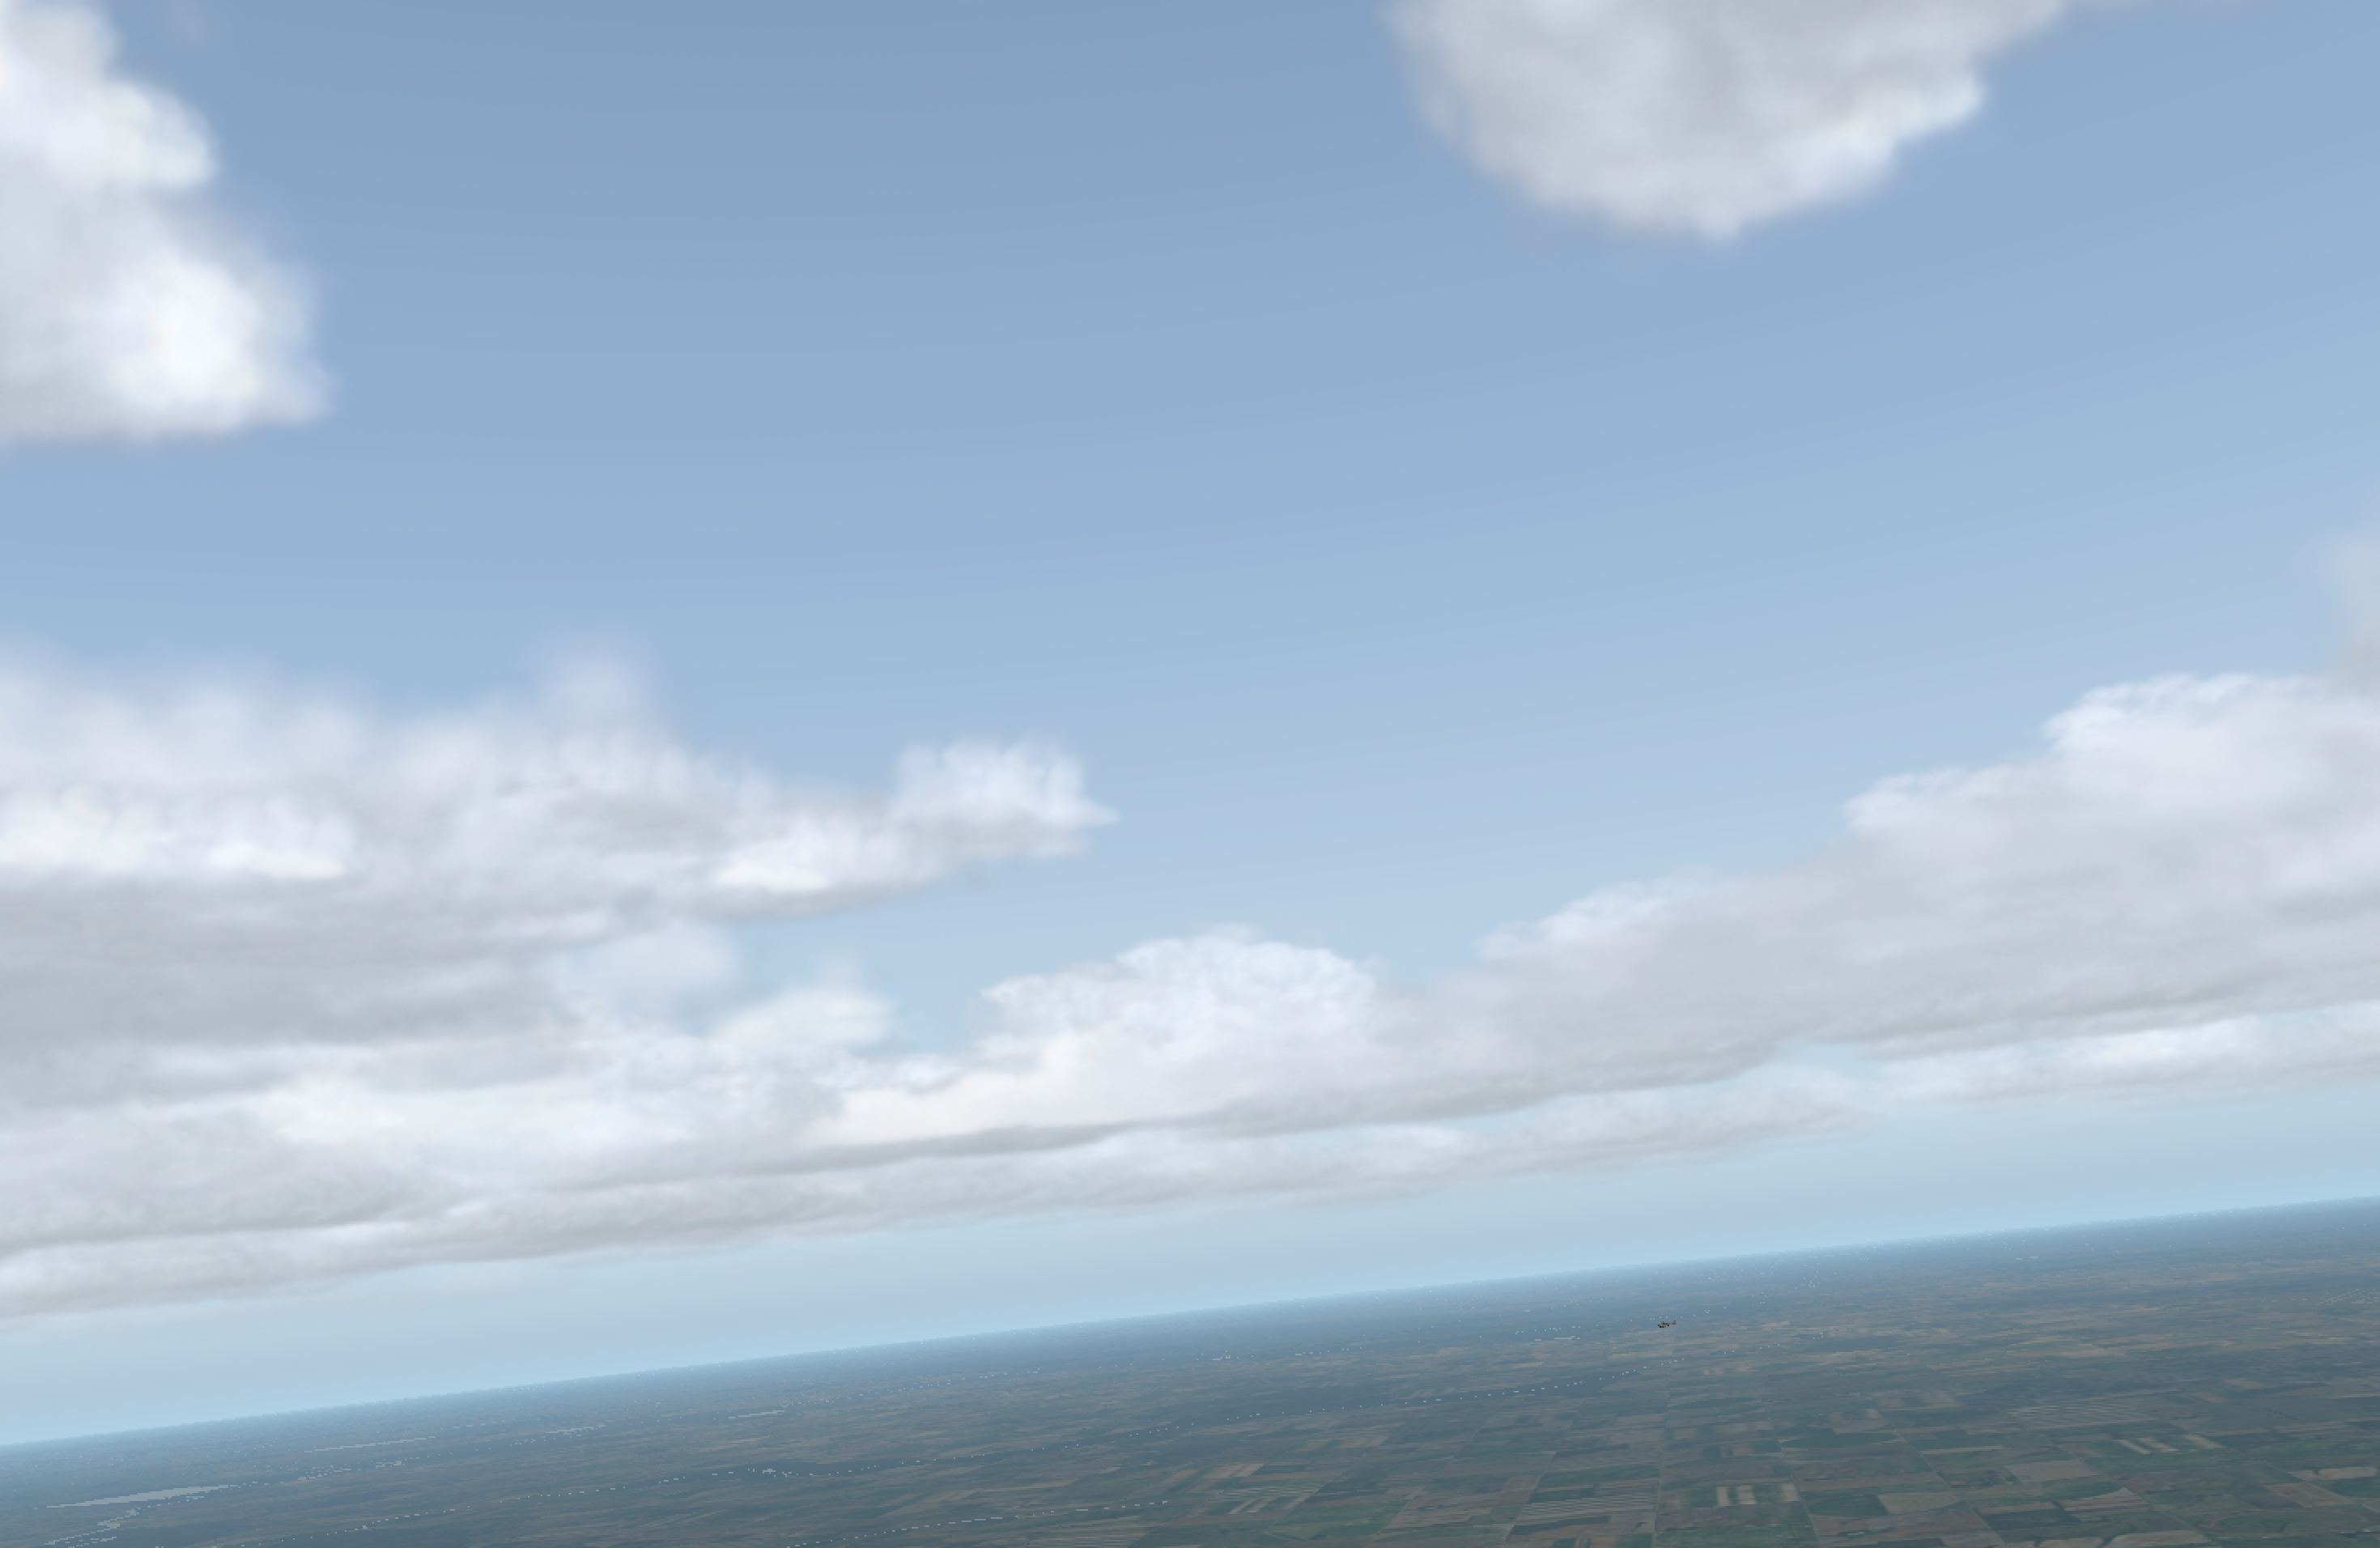aircraft: (1655, 1322, 1672, 1328)
